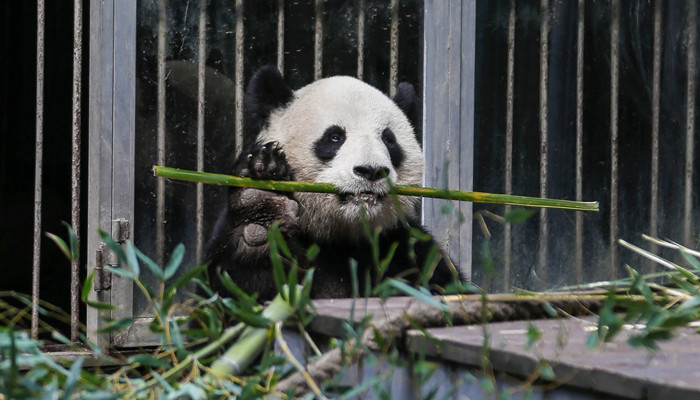panda: (195, 56, 481, 325)
